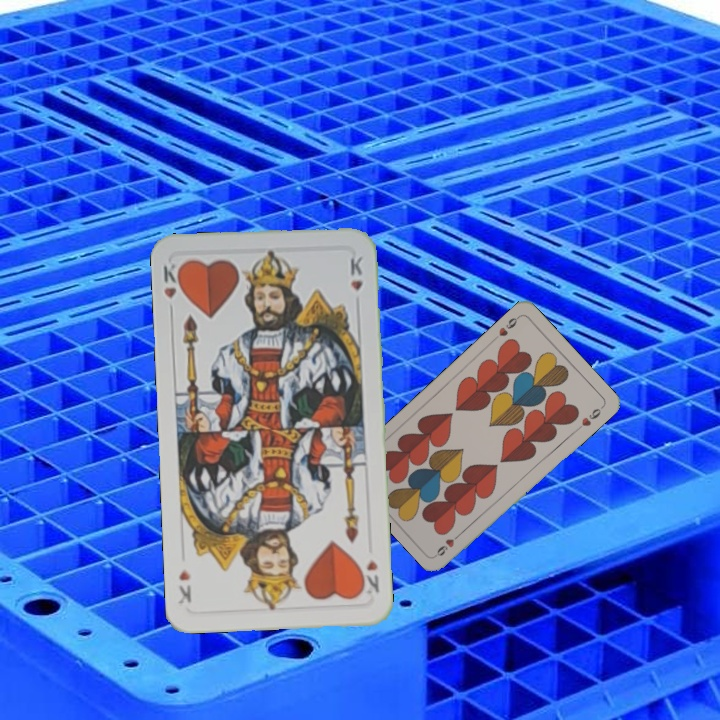H9: (490, 312, 523, 343), (432, 528, 465, 559)
HK: (159, 259, 186, 318), (356, 555, 382, 596)
